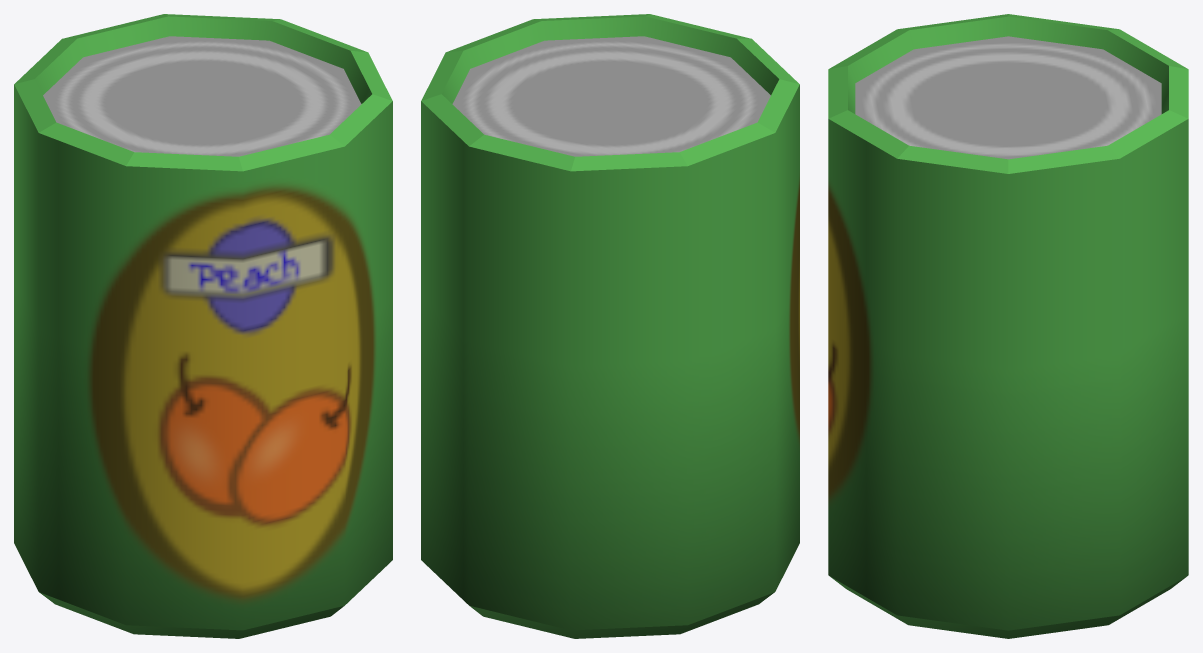
File: Canned_01.fbx
3 views of the same model, side by side, from view 1: azimuth 30°, elevation 25°; view 2: azimuth 150°, elevation 25°; view 3: azimuth 270°, elevation 25° (orthographic).
Parts seen in each view (by area): view 1: Canned_01; view 2: Canned_01; view 3: Canned_01.
Boxes of the visible parts, left/top/right/bottom form: Canned_01: left=14, top=14, right=392, bottom=638; Canned_01: left=421, top=14, right=799, bottom=638; Canned_01: left=828, top=14, right=1188, bottom=638.
Bounding box in the file's own units: 10.26 × 14.31 × 9.76.
